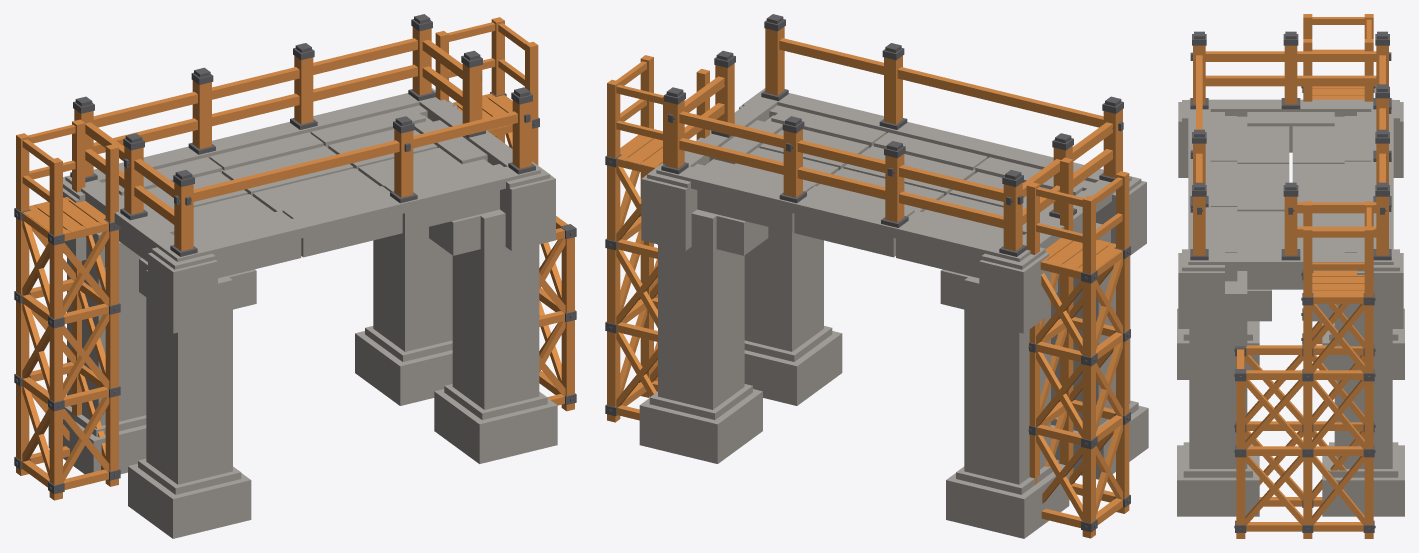
File: bridge under construction.fbx
3 views of the same model, side by side, from view 1: azimuth 30°, elevation 25°; view 2: azimuth 150°, elevation 25°; view 3: azimuth 270°, elevation 25° (orthographic). The views are drawn at different scales.
Visible parts, largest first — view 1: Scaffolding_Wood; view 2: Scaffolding_Wood; view 3: Scaffolding_Wood.
Part boxes in pixels (x1,y1,x2,y2): Scaffolding_Wood: [14, 14, 576, 538]; Scaffolding_Wood: [605, 14, 1148, 538]; Scaffolding_Wood: [1177, 14, 1404, 538].
Size of the model in its own units: 462 by 318 by 204.
